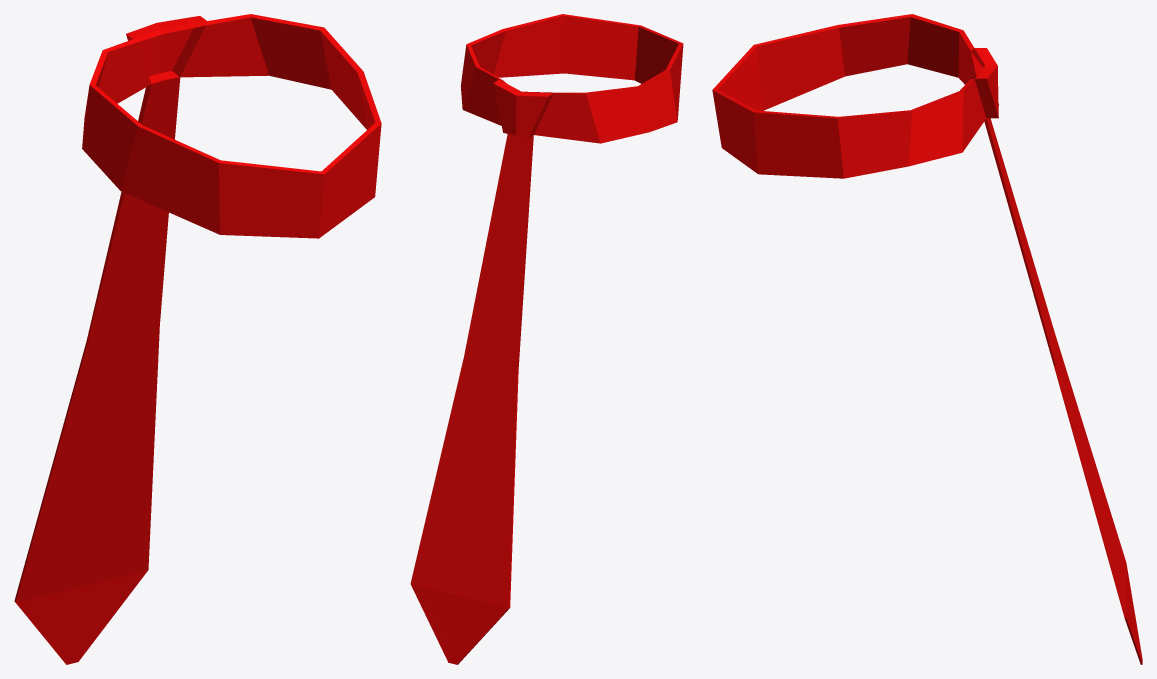
The model's file is tie_small.fbx.
The picture shows the model from 3 angles, left to right: view 1: azimuth 30°, elevation 25°; view 2: azimuth 150°, elevation 25°; view 3: azimuth 270°, elevation 25°; orthographic projection. The views are drawn at different scales.
Visible parts, largest first — view 1: Cube.001; view 2: Cube.001; view 3: Cube.001.
Part boxes in pixels (x1,y1,x2,y2): Cube.001: (14,14,381,664); Cube.001: (410,14,683,664); Cube.001: (712,14,1142,664).
Size of the model in its own units: 46.61 by 124 by 80.45.
